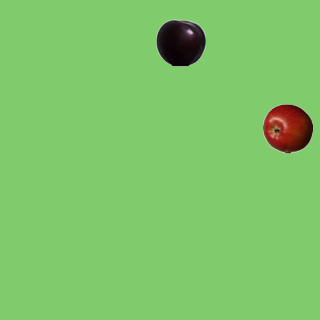Apple Braeburn: (262, 103, 312, 153)
Cherry Wax Black: (155, 17, 205, 67)
